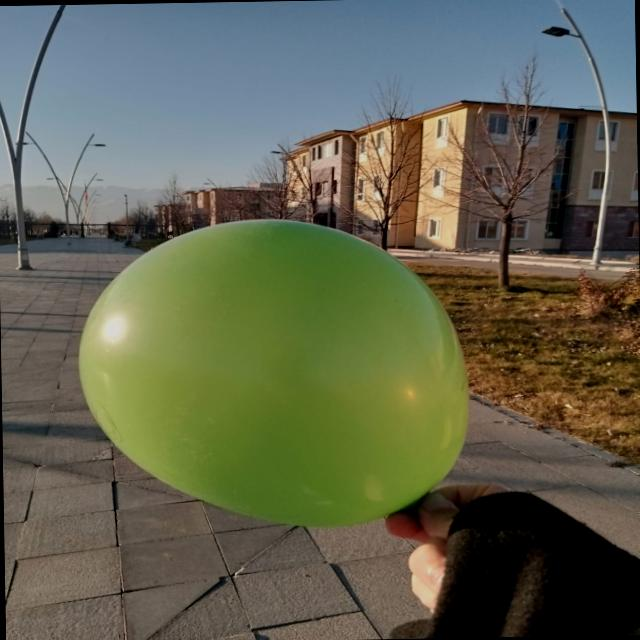balloon: (80, 220, 468, 525)
